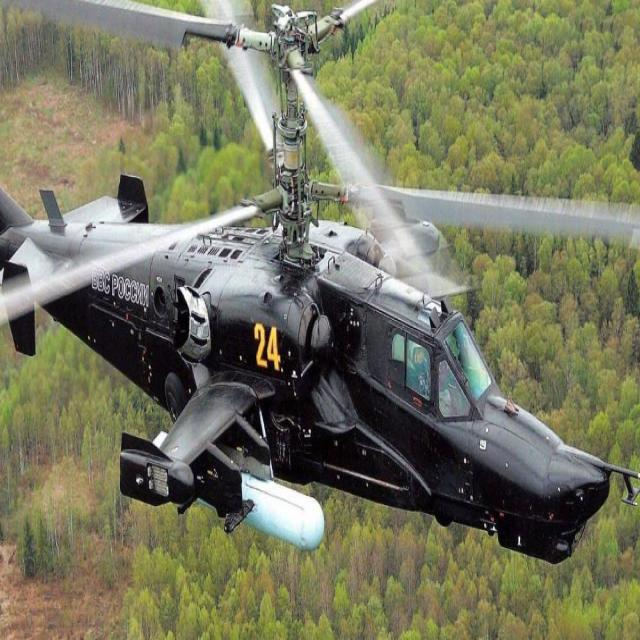MIL_HELO: (0, 0, 640, 553)
